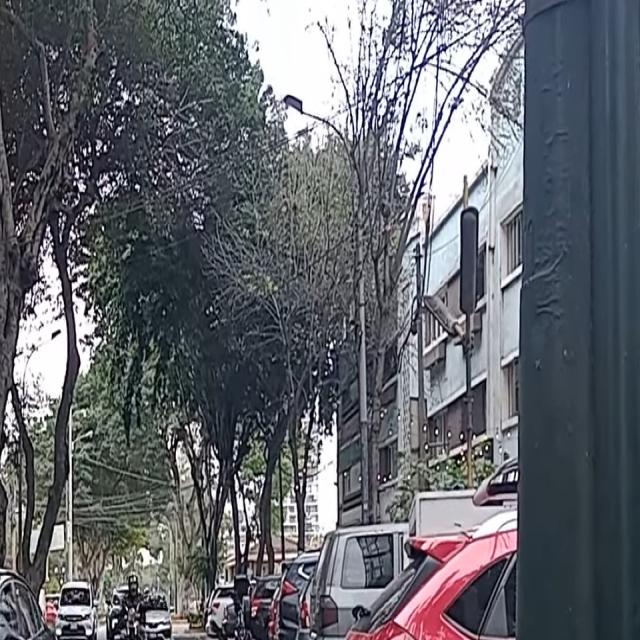car: (0, 566, 63, 640), (55, 578, 97, 640), (139, 591, 173, 640)
motorcycle: (119, 597, 147, 640)
